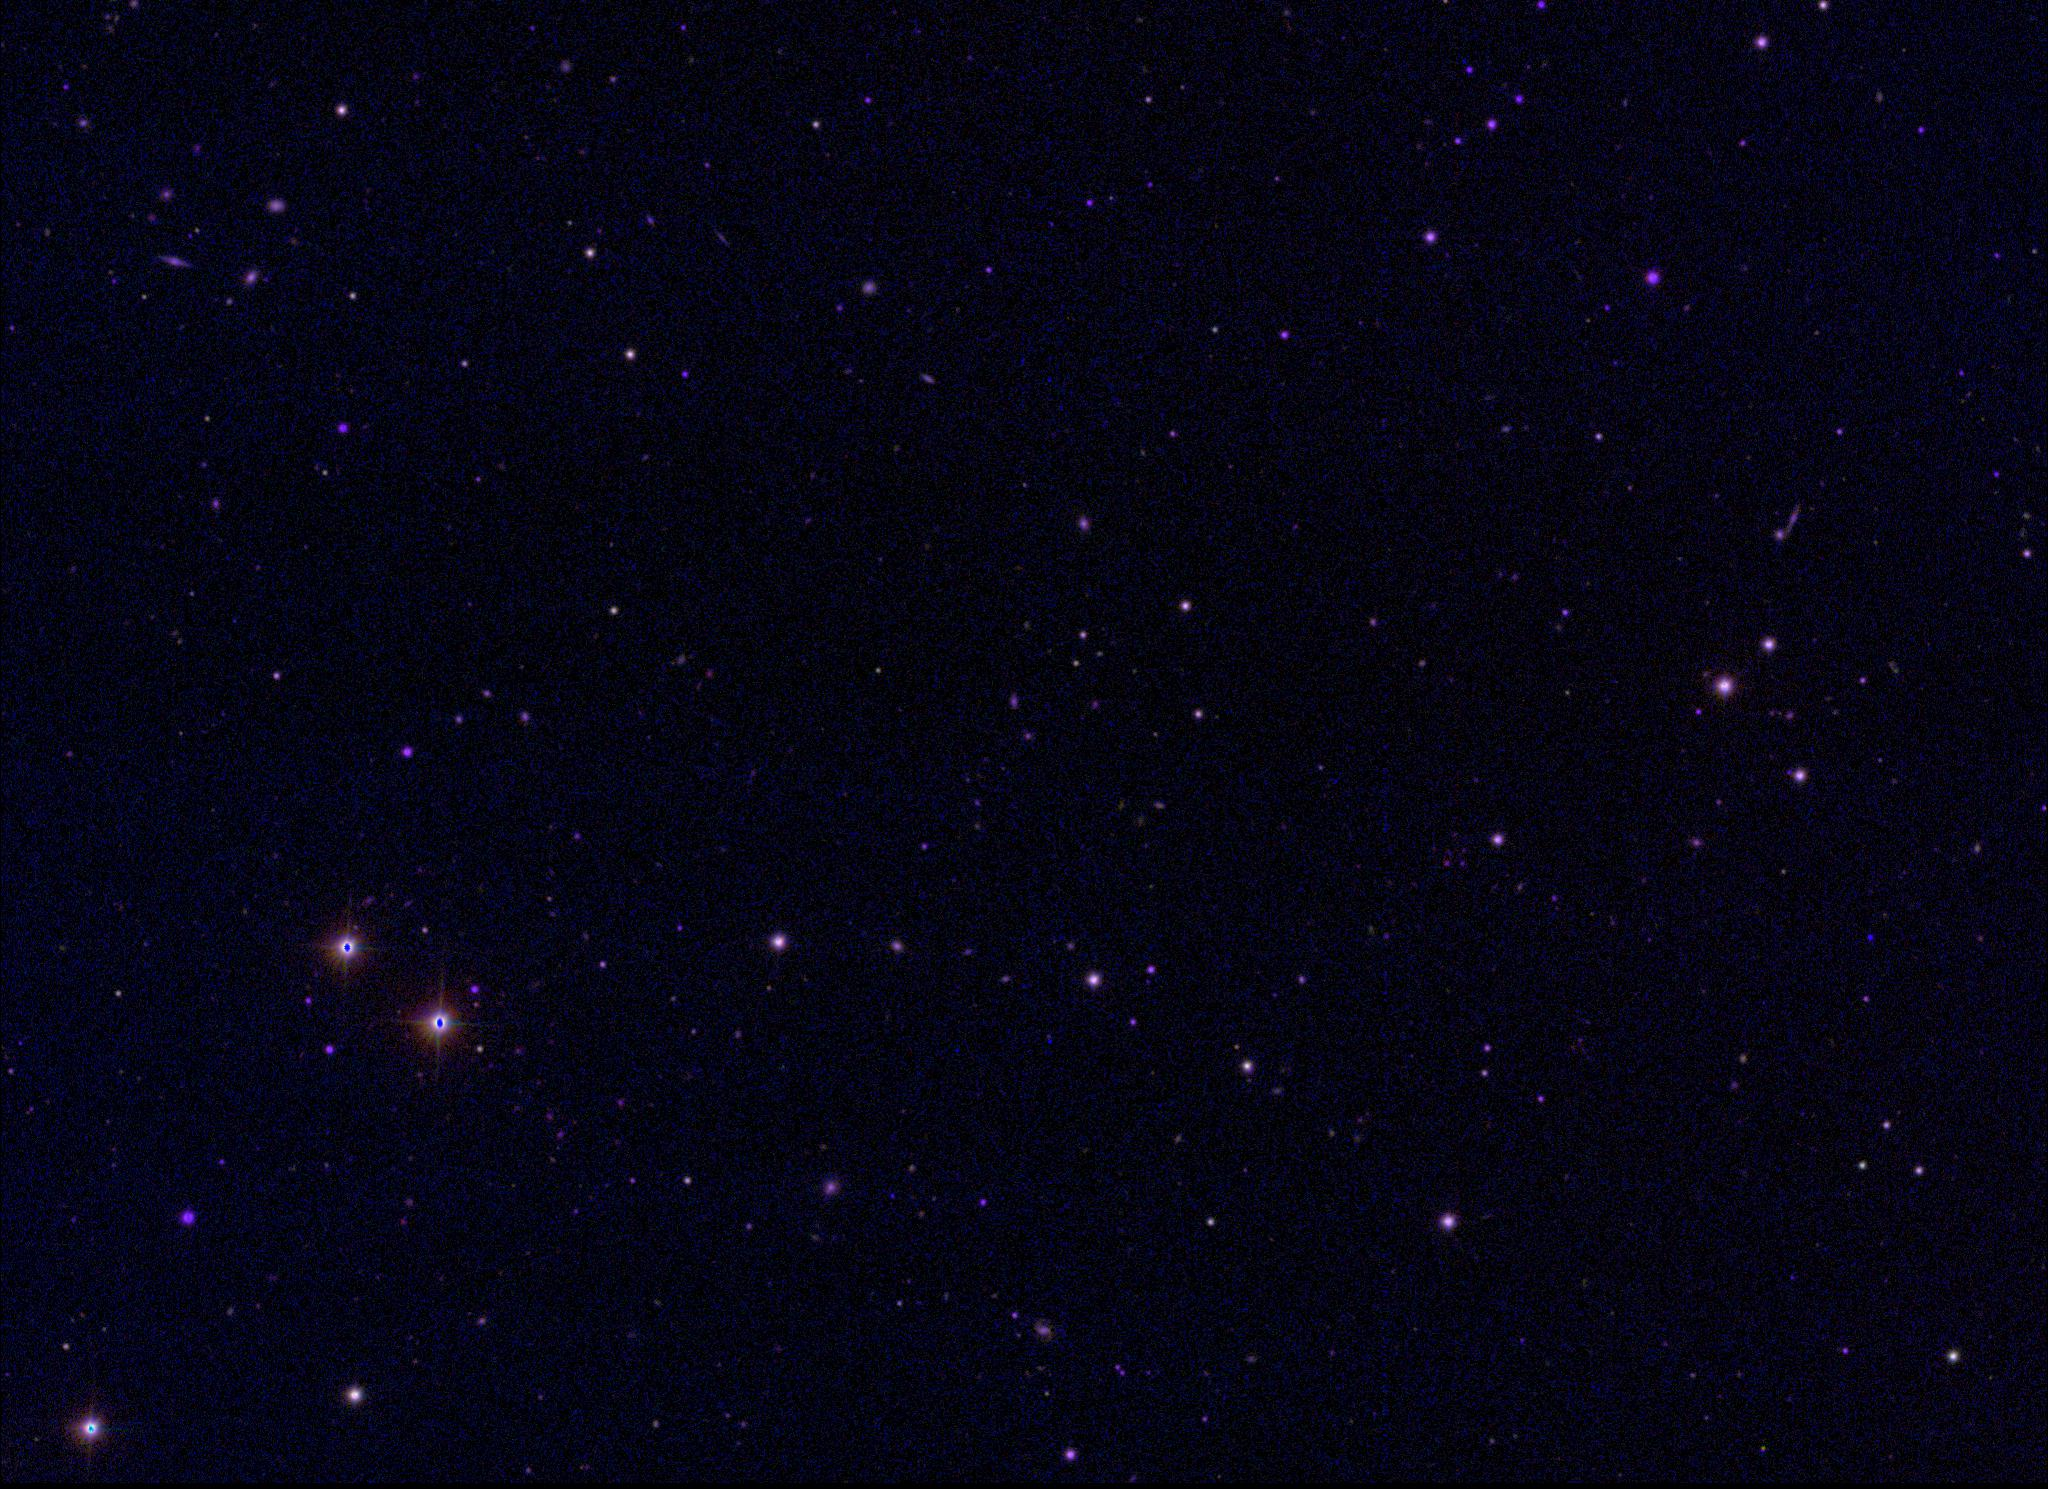L: (1864, 929, 1878, 943)
